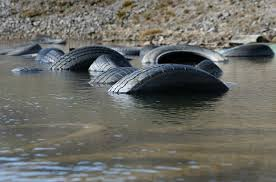tire: (118, 68, 227, 130), (137, 45, 227, 74), (46, 49, 134, 76), (216, 40, 274, 63)
